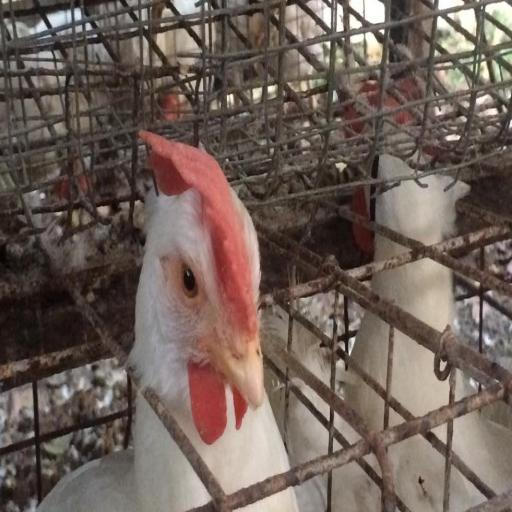healthy: (145, 135, 276, 412)
